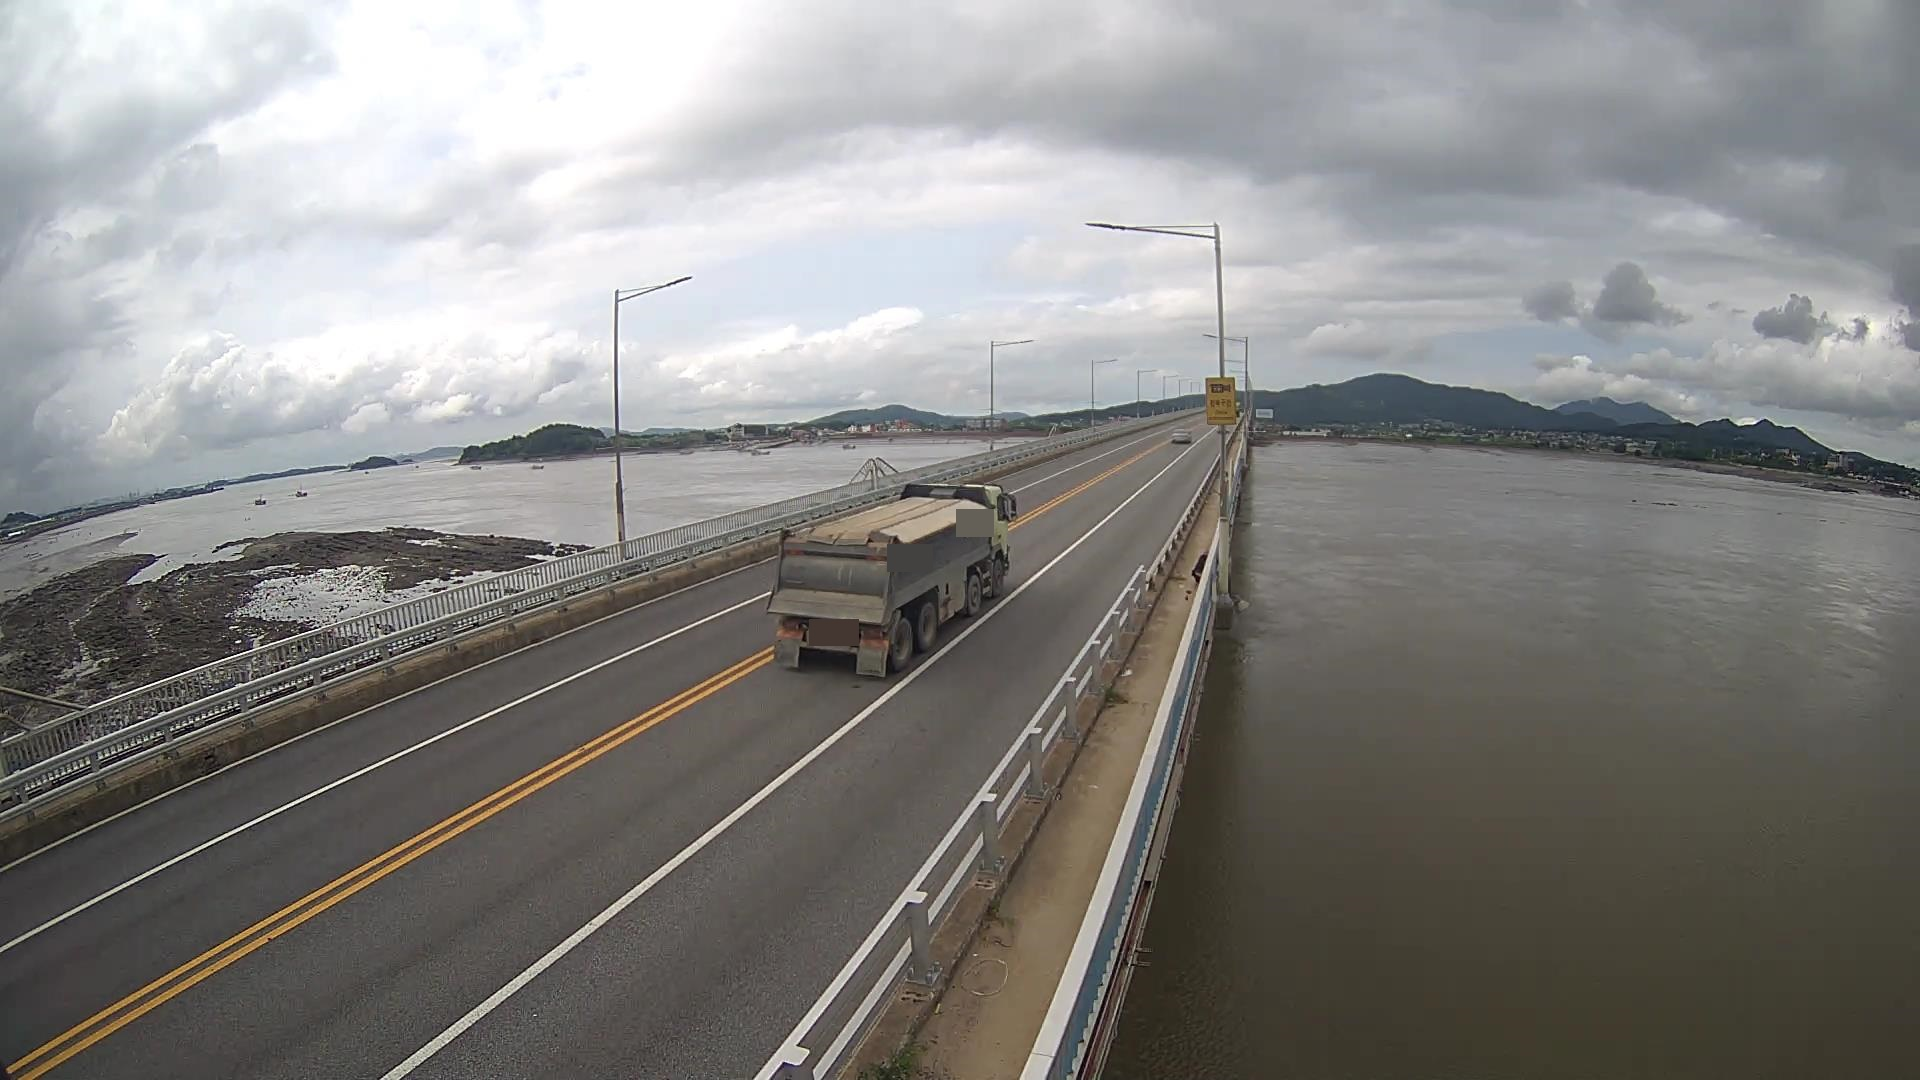정상차량: (766, 484, 1017, 678)
